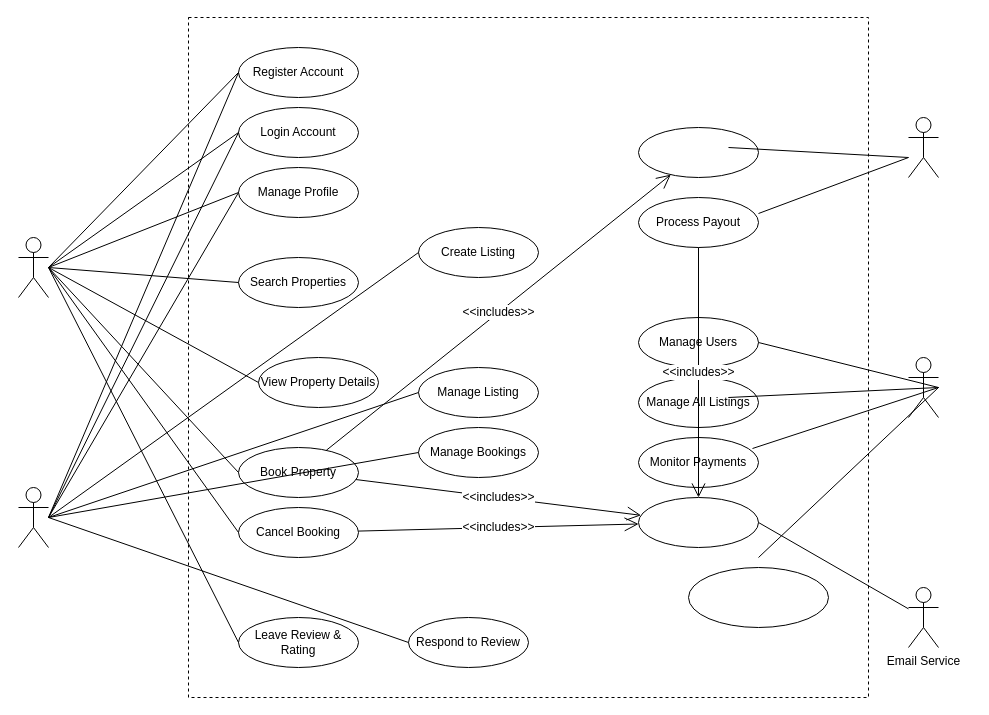
This 989x715 diagram has some shape labels left out. Here are the shapes that lost their labels. From the top down, the centre of each, then its label:
At (x=698, y=152): "Make Payment".
At (x=923, y=147): "Payment Gateway".
At (x=33, y=267): "Guest".
At (x=923, y=387): "Admin".
At (x=33, y=517): "Host".
At (x=698, y=522): "Send Notification".
At (x=758, y=597): "Access Admin Dashboard".
